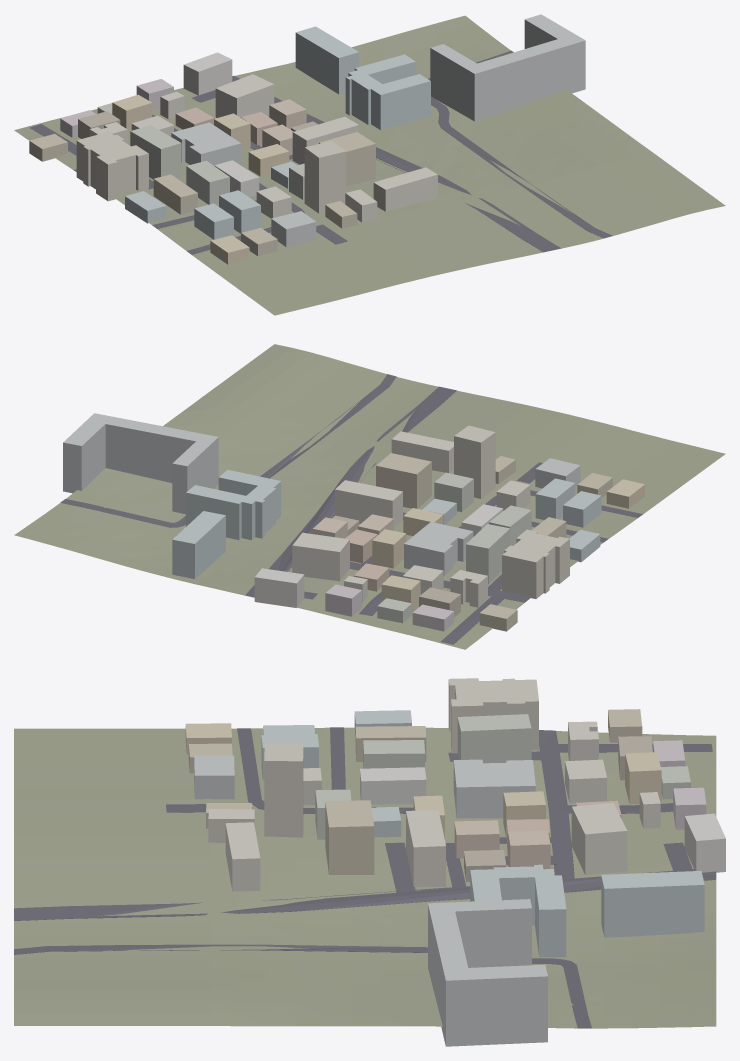
Rendered from chunk_4_9.glb.
3 renders of one model, top to bottom at view 1: azimuth 30°, elevation 25°; view 2: azimuth 150°, elevation 25°; view 3: azimuth 270°, elevation 25°, orthographic. The views are drawn at different scales.
Visible parts, largest first — view 1: geometry_42, geometry_38, geometry_37, geometry_5, geometry_39, geometry_3, geometry_23, geometry_11, geometry_40, geometry_45, geometry_22, geometry_46 (+28 smaller); view 2: geometry_42, geometry_38, geometry_37, geometry_5, geometry_39, geometry_23, geometry_45, geometry_3, geometry_40, geometry_27, geometry_7, geometry_46 (+29 smaller); view 3: geometry_42, geometry_38, geometry_39, geometry_45, geometry_37, geometry_5, geometry_23, geometry_3, geometry_7, geometry_46, geometry_40, geometry_22 (+33 smaller).
Boxes of the visible parts, box(x1,y1,x2,y2) form: geometry_42: box(14, 15, 725, 315); geometry_38: box(430, 14, 585, 121); geometry_37: box(345, 54, 430, 130); geometry_5: box(76, 131, 148, 201); geometry_39: box(295, 26, 358, 94); geometry_3: box(304, 141, 346, 213); geometry_23: box(171, 122, 241, 165); geometry_11: box(373, 167, 437, 211); geometry_40: box(215, 74, 274, 117); geometry_45: box(232, 76, 561, 252); geometry_22: box(130, 125, 181, 179); geometry_46: box(428, 50, 612, 238); geometry_42: box(14, 344, 725, 649); geometry_38: box(63, 413, 218, 514); geometry_37: box(186, 469, 281, 540); geometry_5: box(502, 529, 569, 598); geometry_39: box(172, 511, 225, 578); geometry_23: box(404, 522, 473, 575); geometry_45: box(245, 386, 456, 597); geometry_3: box(454, 425, 495, 498); geometry_40: box(292, 532, 349, 581); geometry_27: box(335, 480, 402, 528); geometry_7: box(376, 453, 431, 508); geometry_46: box(60, 374, 396, 527); geometry_42: box(14, 727, 716, 1028); geometry_38: box(428, 899, 547, 1046); geometry_39: box(601, 871, 704, 937); geometry_45: box(14, 869, 716, 920); geometry_37: box(470, 864, 566, 957); geometry_5: box(448, 678, 538, 753); geometry_23: box(453, 759, 535, 818); geometry_3: box(264, 743, 303, 837); geometry_7: box(325, 800, 374, 874); geometry_46: box(14, 944, 591, 1028); geometry_40: box(571, 803, 627, 875); geometry_22: box(457, 714, 531, 763).
Bounding box in the file's own units: 268 × 33.78 × 253.
